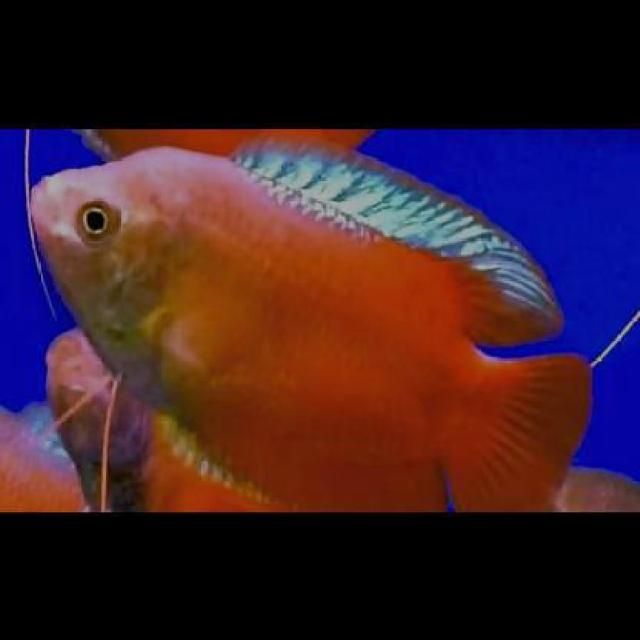Gourami: (31, 136, 597, 510)
